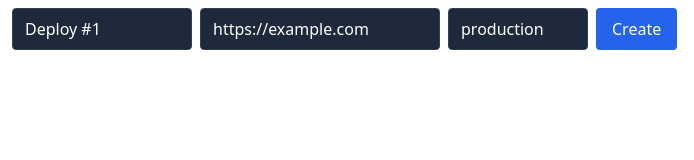
Scenario: DeploymentForm › disables submit button when required fields are empty
The width and height of the screenshot is (694, 160).
Clear the field with test id "deployment-name-input" at (102, 29), box [12, 8, 192, 50]
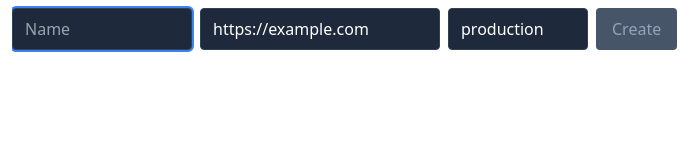
Now the button with test id "create-deployment-button" is disabled, box [596, 8, 677, 50]
